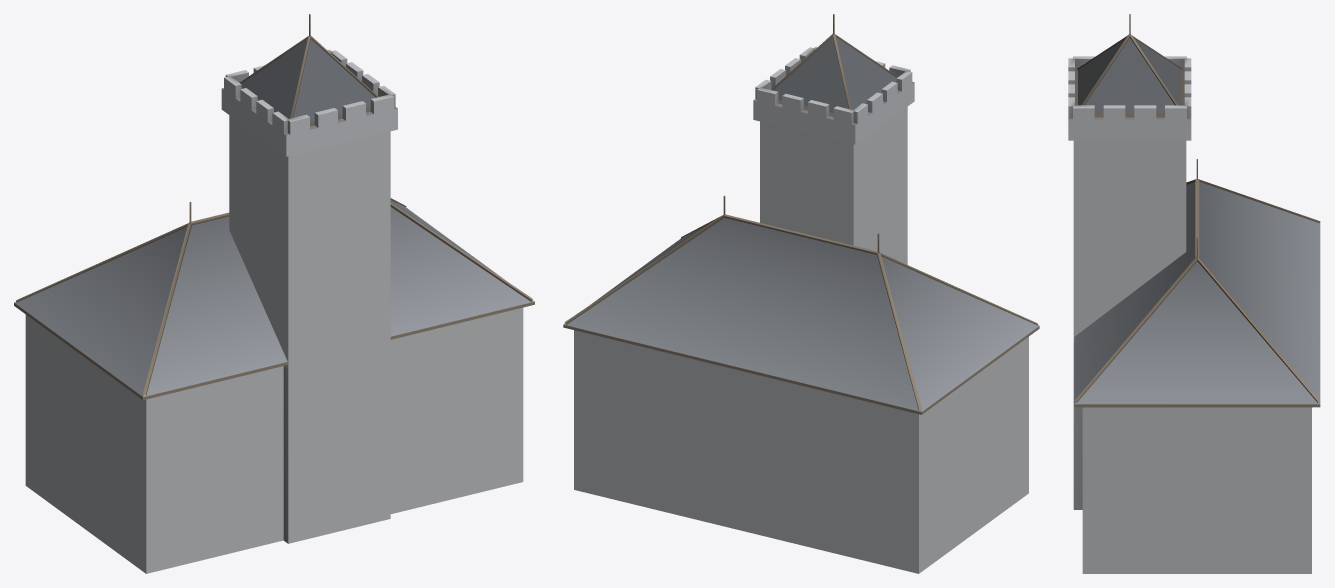
The model's file is sg_auction_house_l1.glb.
3 views of the same model, side by side, from view 1: azimuth 30°, elevation 25°; view 2: azimuth 150°, elevation 25°; view 3: azimuth 270°, elevation 25° (orthographic). The views are drawn at different scales.
Visible parts, largest first — view 1: sg_auction_house_l1_SG_Far, sg_auction_house_l1_SG_Slate, sg_auction_house_l1_SG_Stone, sg_auction_house_l1_SG_Joinery; view 2: sg_auction_house_l1_SG_Far, sg_auction_house_l1_SG_Slate, sg_auction_house_l1_SG_Stone, sg_auction_house_l1_SG_Joinery; view 3: sg_auction_house_l1_SG_Far, sg_auction_house_l1_SG_Slate, sg_auction_house_l1_SG_Stone, sg_auction_house_l1_SG_Joinery.
Boxes of the visible parts, left/top/right/bottom form: sg_auction_house_l1_SG_Far: left=25, top=115, right=523, bottom=573; sg_auction_house_l1_SG_Slate: left=14, top=39, right=534, bottom=396; sg_auction_house_l1_SG_Stone: left=221, top=49, right=397, bottom=543; sg_auction_house_l1_SG_Joinery: left=14, top=14, right=534, bottom=400; sg_auction_house_l1_SG_Far: left=574, top=107, right=1028, bottom=573; sg_auction_house_l1_SG_Slate: left=563, top=37, right=1039, bottom=411; sg_auction_house_l1_SG_Stone: left=753, top=46, right=914, bottom=144; sg_auction_house_l1_SG_Joinery: left=563, top=14, right=1039, bottom=414; sg_auction_house_l1_SG_Far: left=1073, top=140, right=1311, bottom=573; sg_auction_house_l1_SG_Slate: left=1074, top=38, right=1320, bottom=404; sg_auction_house_l1_SG_Stone: left=1068, top=56, right=1312, bottom=509; sg_auction_house_l1_SG_Joinery: left=1074, top=14, right=1320, bottom=407.
Bounding box in the file's own units: 29.1 × 35.17 × 17.02.
